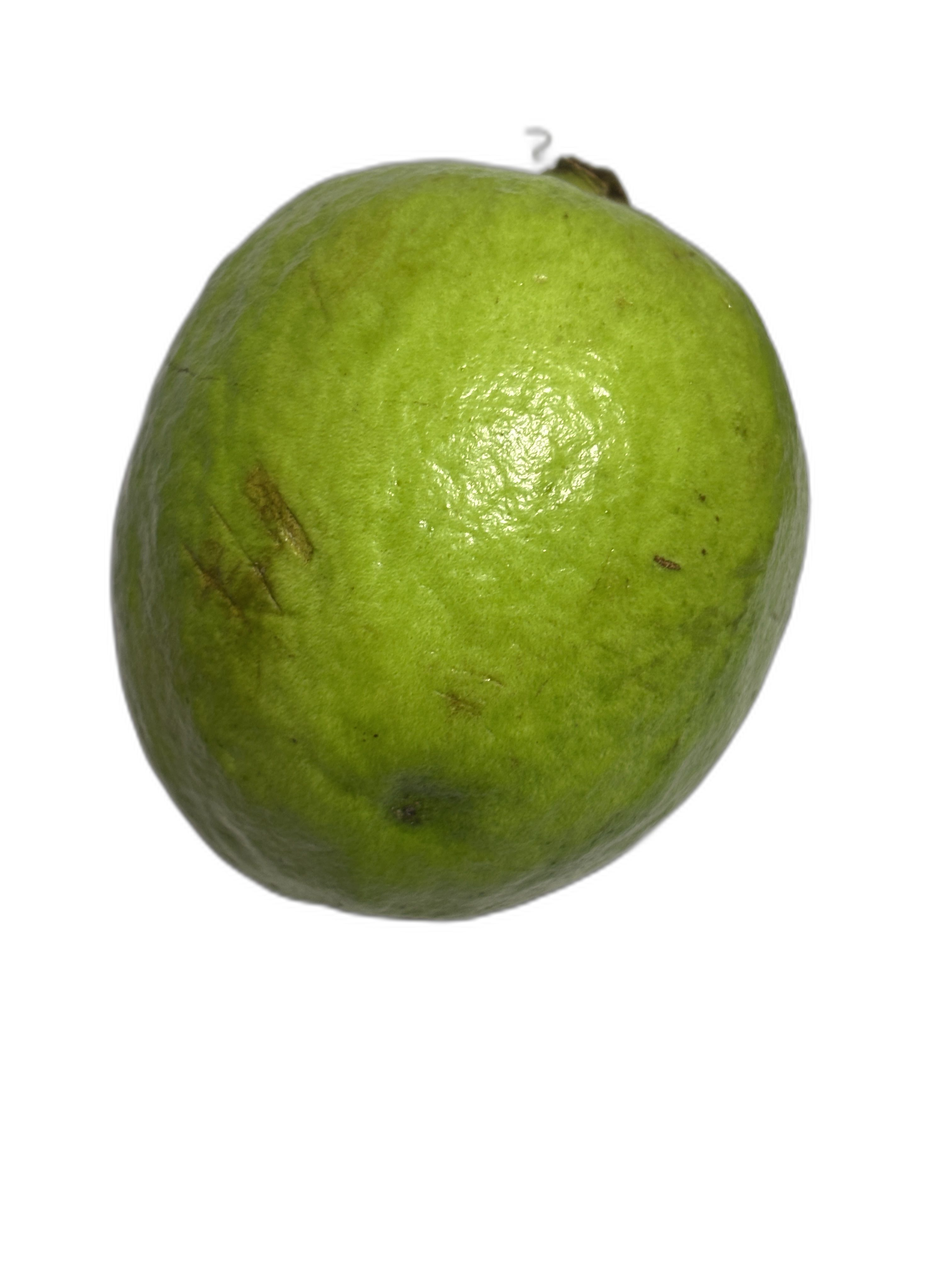guava: (163, 73, 920, 1160)
